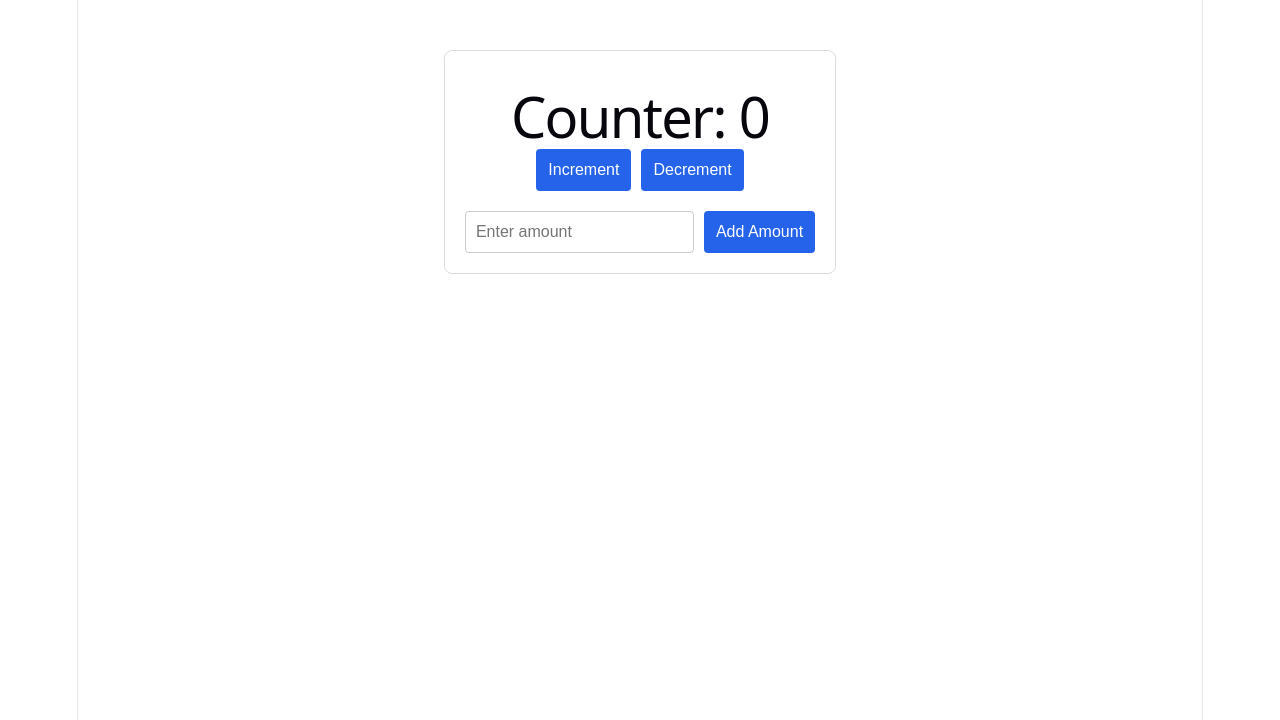
should increase counter value by 1 when clicking increase button
The width and height of the screenshot is (1280, 720).
Click the button "Increment": (584, 170) [536,149,631,191]
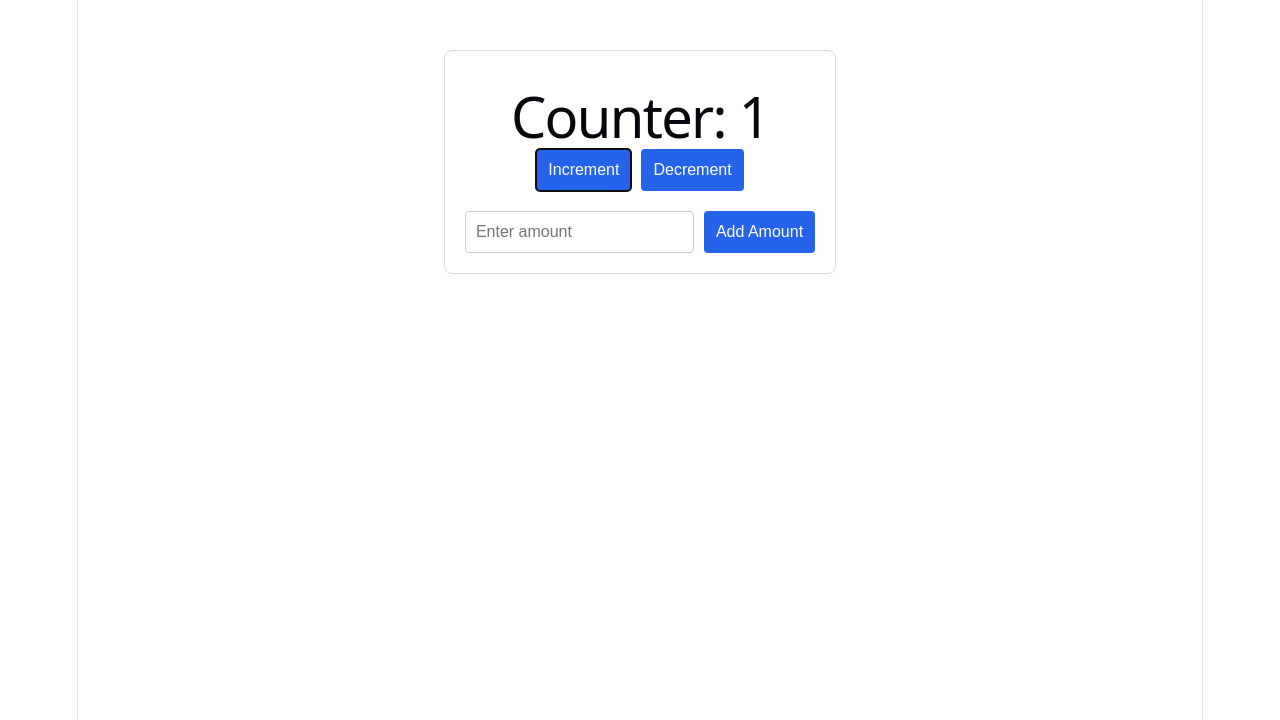
Check: the heading reads "Counter: 1", box [511,78,769,154]
